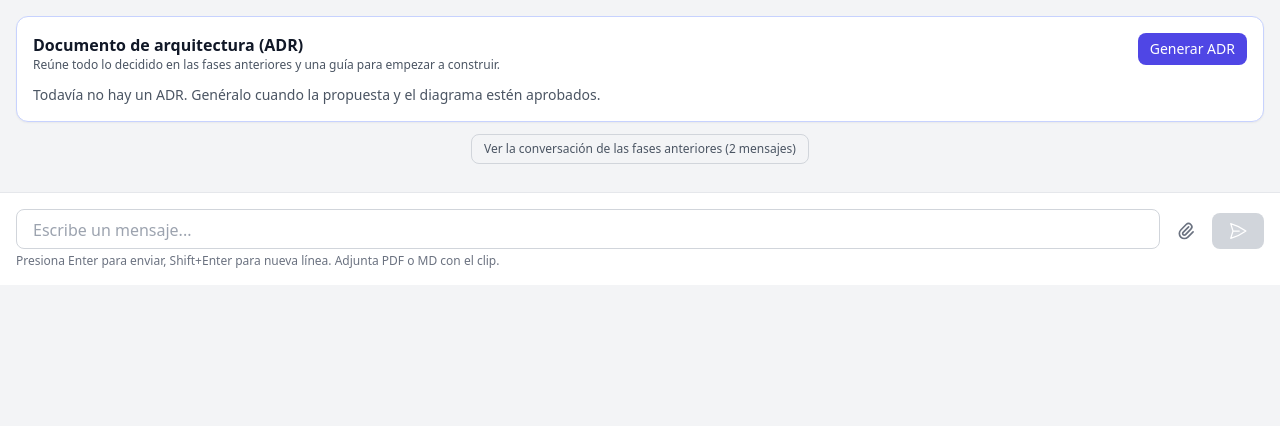
ChatWindow — fase Revisión › permite ver la conversación anterior con el botón
Step 1. Click the button with test id "toggle-prior-chat" → (640, 149), box left=471, top=134, right=809, bottom=164
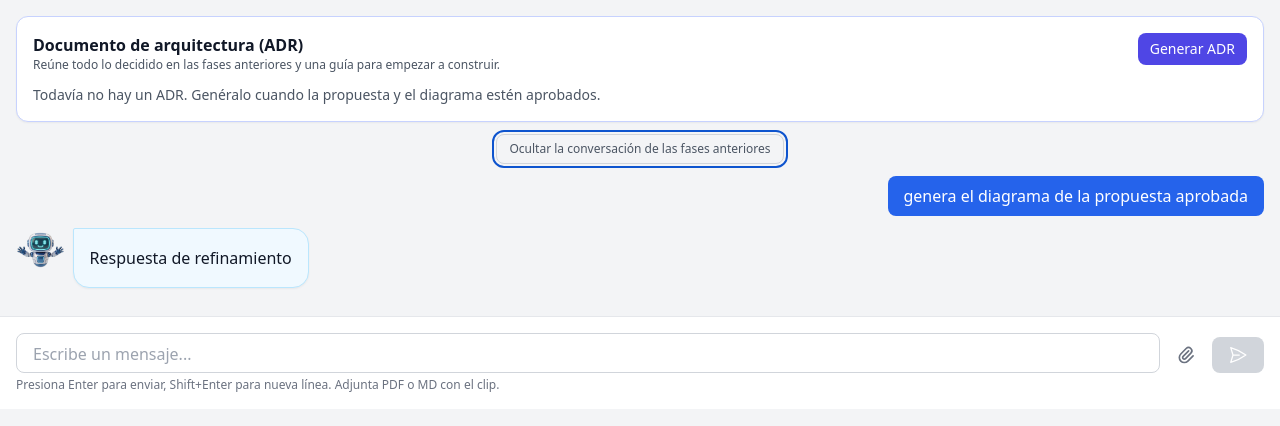
Now the text "Respuesta de refinamiento" is shown, box left=90, top=245, right=292, bottom=271
